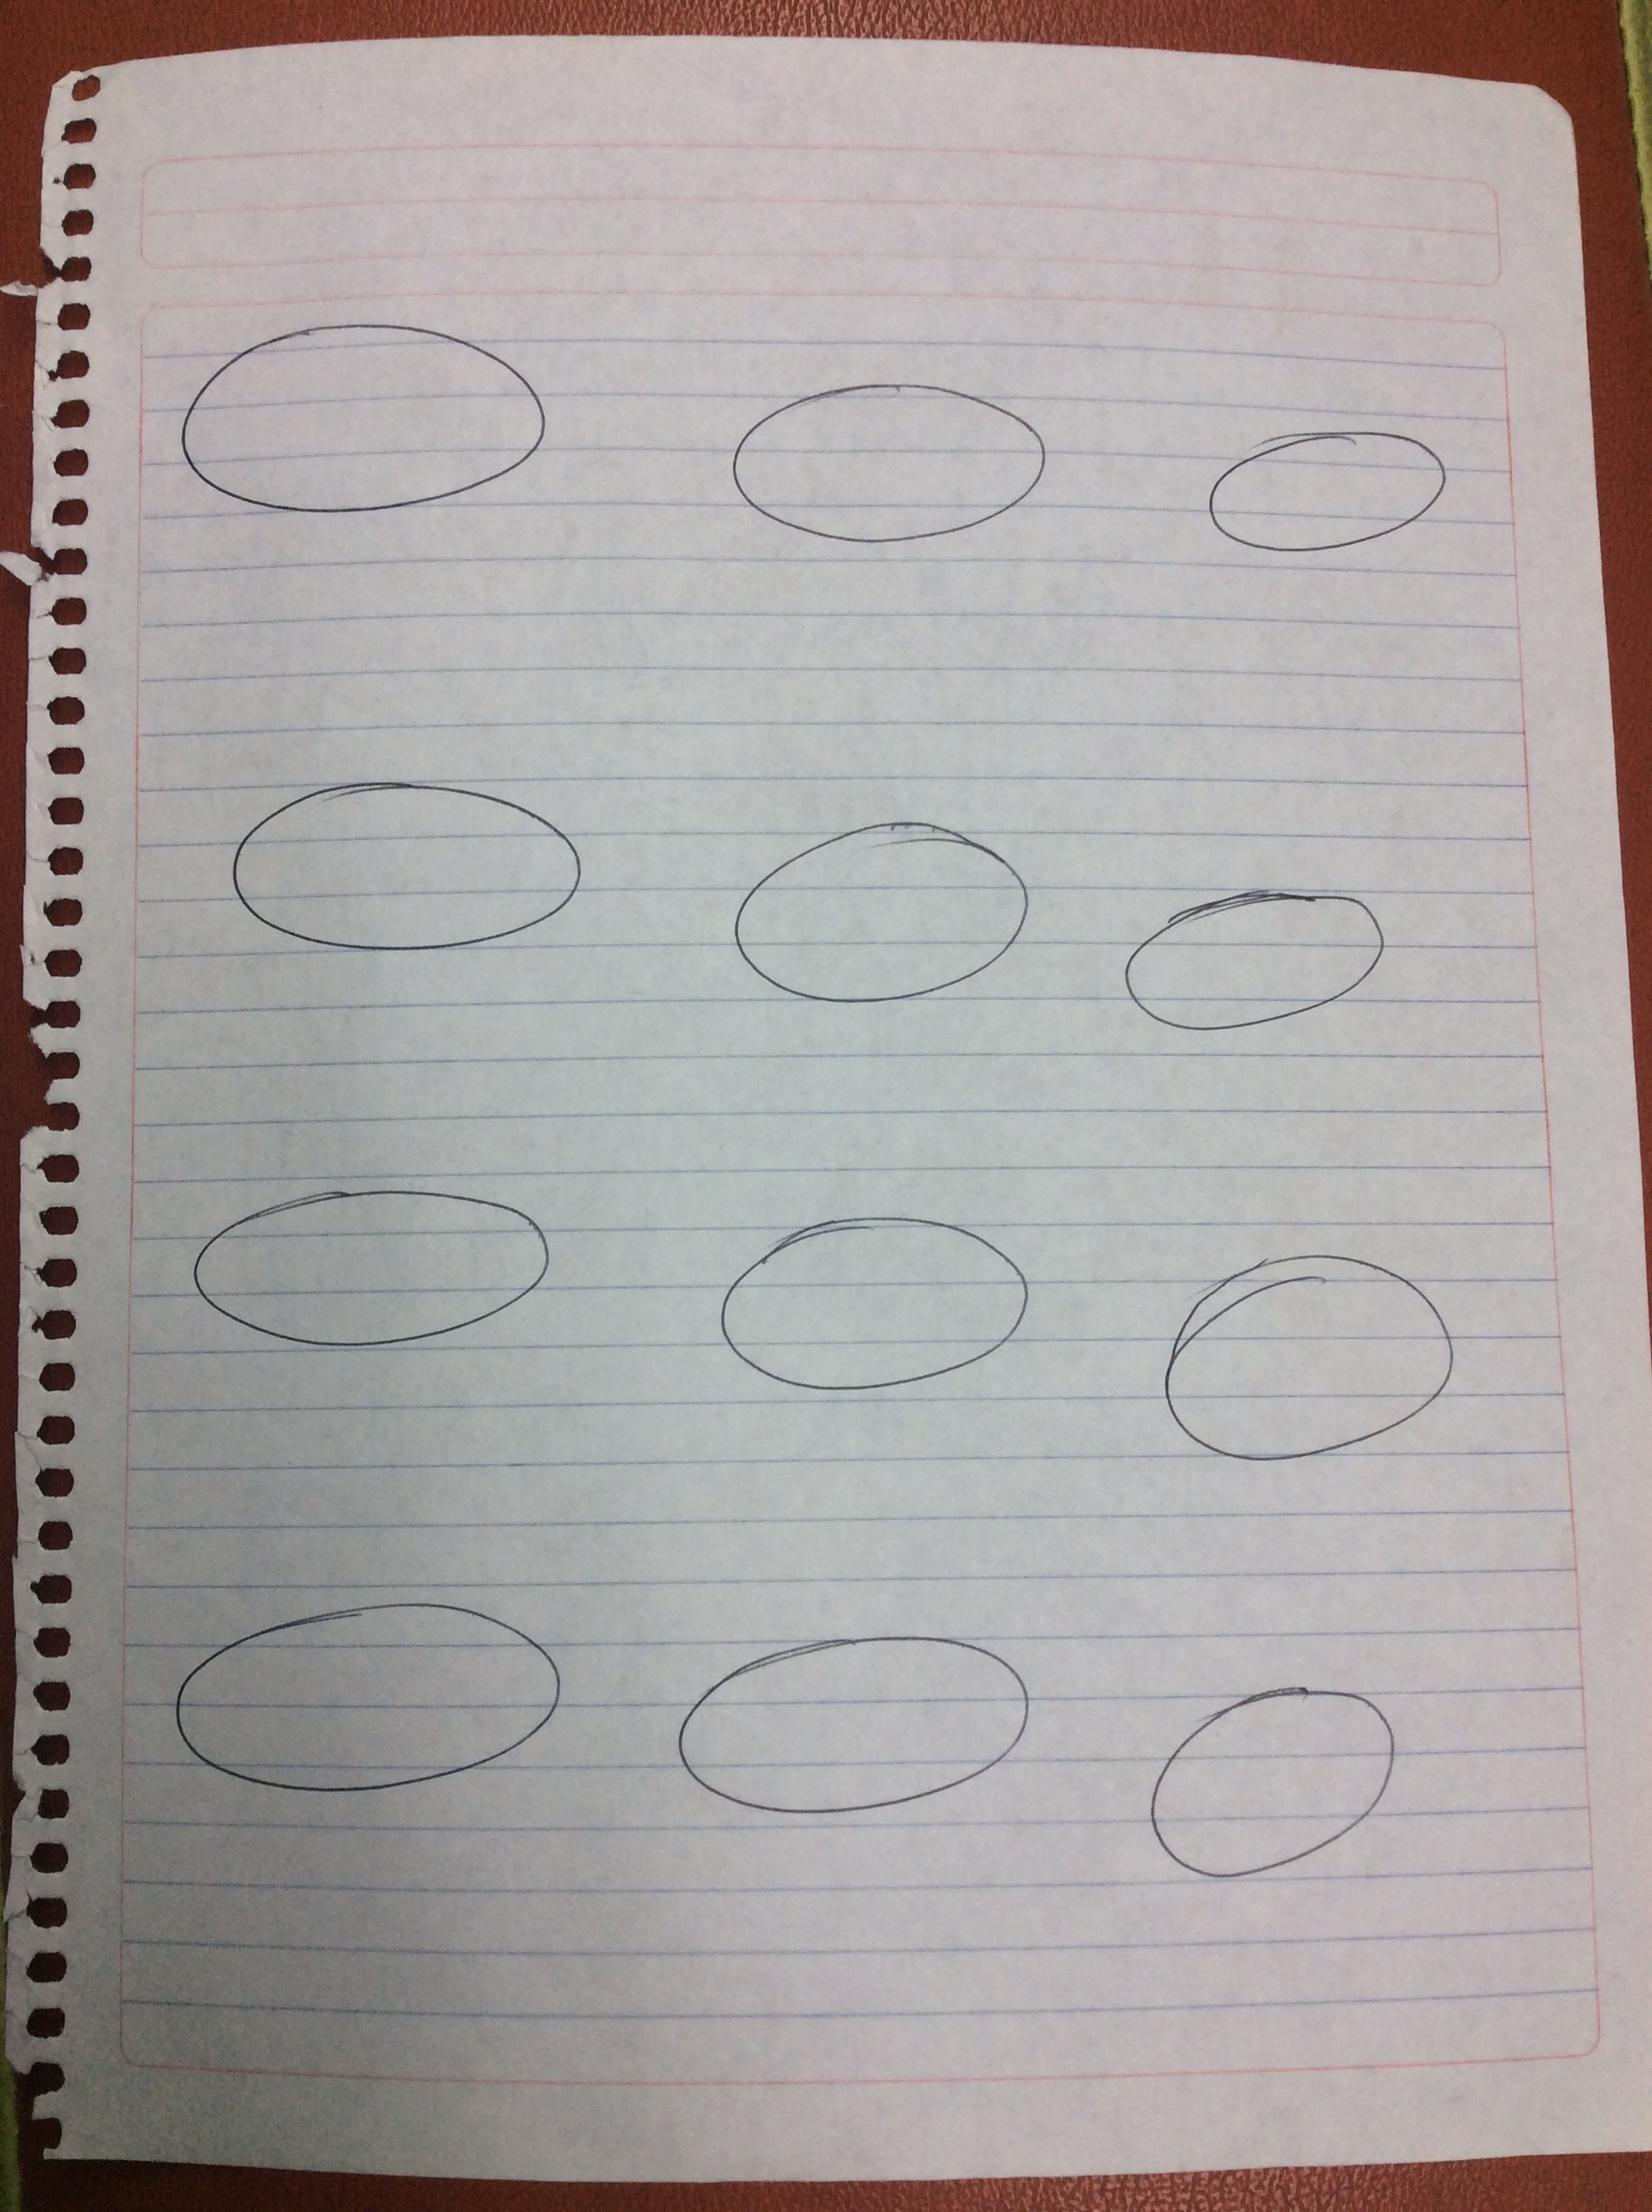start_end: (132, 1563, 581, 1816), (1118, 1221, 1491, 1485), (651, 1605, 1050, 1837), (154, 307, 567, 526), (153, 1164, 567, 1379), (680, 1188, 1053, 1421), (680, 786, 1039, 1027), (1104, 1648, 1432, 1908), (206, 769, 616, 977), (701, 349, 1067, 567), (1163, 389, 1484, 590), (1097, 861, 1404, 1048)
